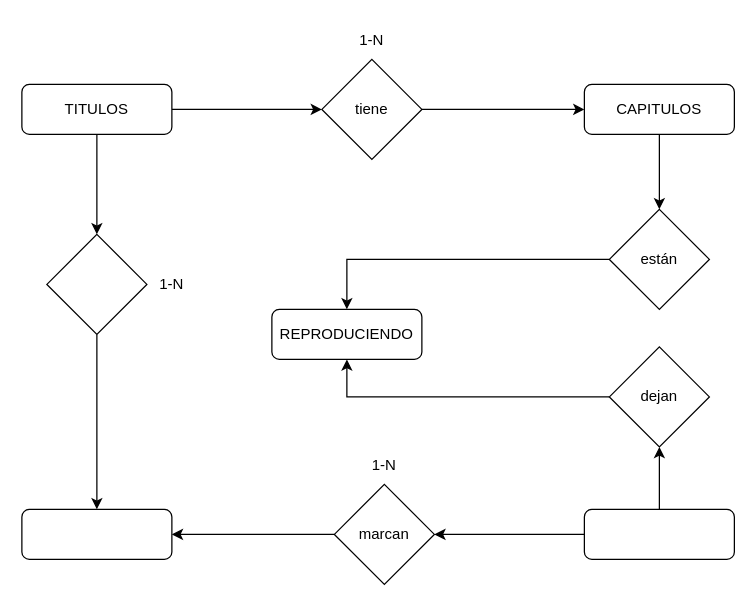
Some shapes in this 756 by 606 pixel diagram are drawn without their labels. The shapes that lost their labels are listed below. From the top down, each one's centre as x and y in pixels, then its label:
At point (96, 283): "es elegido".
At point (96, 533): "FAVORITOS".
At point (658, 533): "USUARIOS".
